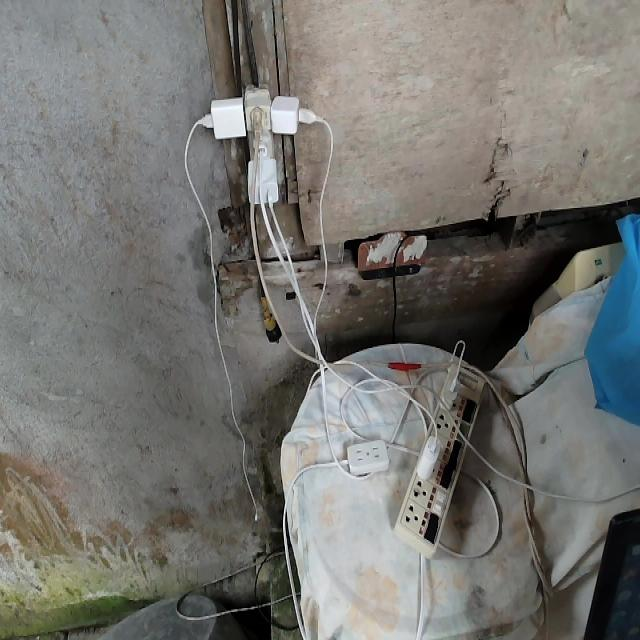-: (198, 86, 318, 210)
